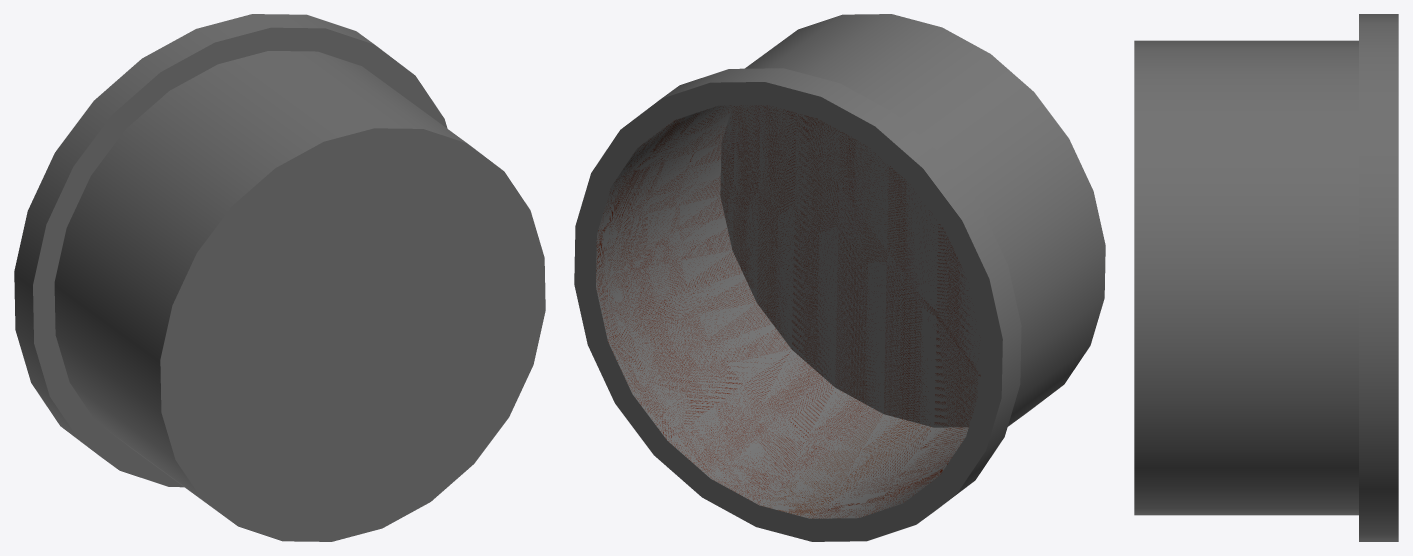
Rendered from original-7.obj.
3 views of the same model, side by side, from view 1: azimuth 30°, elevation 25°; view 2: azimuth 150°, elevation 25°; view 3: azimuth 270°, elevation 25° (orthographic). The views are drawn at different scales.
Visible parts, largest first — view 1: knapp3/knapp/mesh9/mesh9-geometry#mesh9-geometry; view 2: knapp3/knapp/mesh9/mesh9-geometry#mesh9-geometry; view 3: knapp3/knapp/mesh9/mesh9-geometry#mesh9-geometry.
Part boxes in pixels (<box>): knapp3/knapp/mesh9/mesh9-geometry#mesh9-geometry: <box>14,14,545,541</box>; knapp3/knapp/mesh9/mesh9-geometry#mesh9-geometry: <box>574,14,1105,541</box>; knapp3/knapp/mesh9/mesh9-geometry#mesh9-geometry: <box>1134,14,1398,541</box>.
Bounding box in the file's own units: 0.0622 × 0.0622 × 0.0313.
